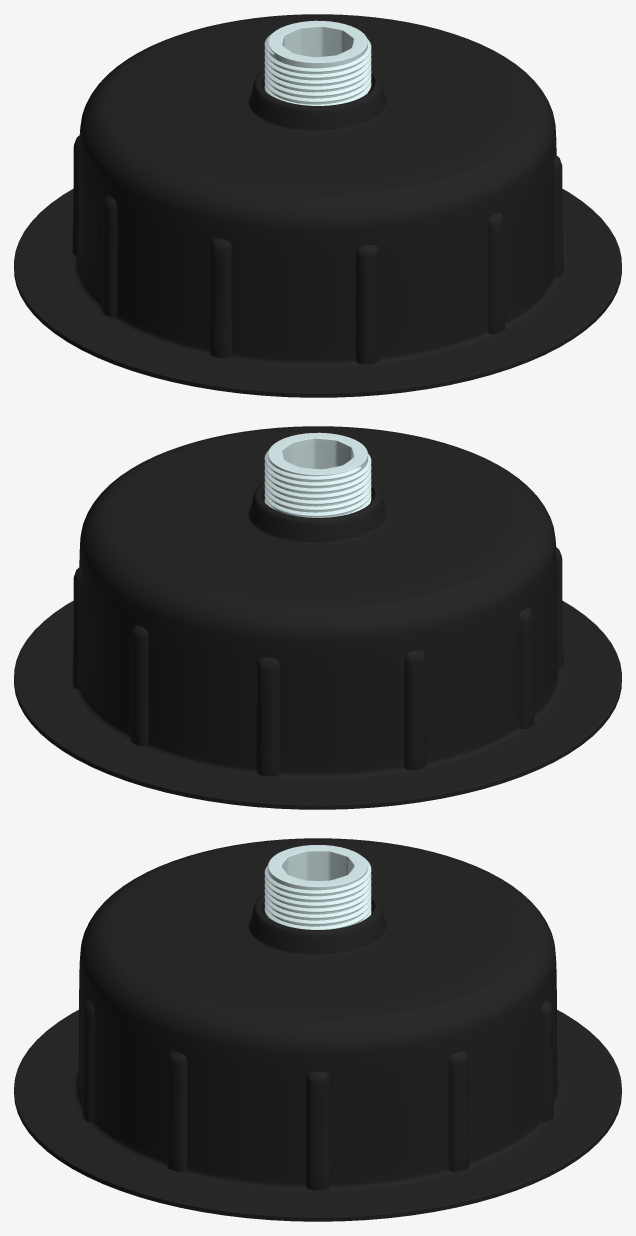
Rendered from no_legs.glb.
3 views of the same model, one above another, from view 1: azimuth 30°, elevation 25°; view 2: azimuth 150°, elevation 25°; view 3: azimuth 270°, elevation 25° (orthographic).
Parts seen in each view (by area): view 1: pCube13, pCylinder3; view 2: pCube13, pCylinder3; view 3: pCube13, pCylinder3.
Part boxes in pixels (x1=…): pCube13: x1=14, y1=14, x2=621, y2=397; pCylinder3: x1=264, y1=20, x2=371, y2=105; pCube13: x1=14, y1=426, x2=621, y2=809; pCylinder3: x1=264, y1=432, x2=371, y2=517; pCube13: x1=14, y1=838, x2=621, y2=1221; pCylinder3: x1=264, y1=845, x2=371, y2=929.
Size of the model in its own units: 0.0514 by 0.0238 by 0.0514.
